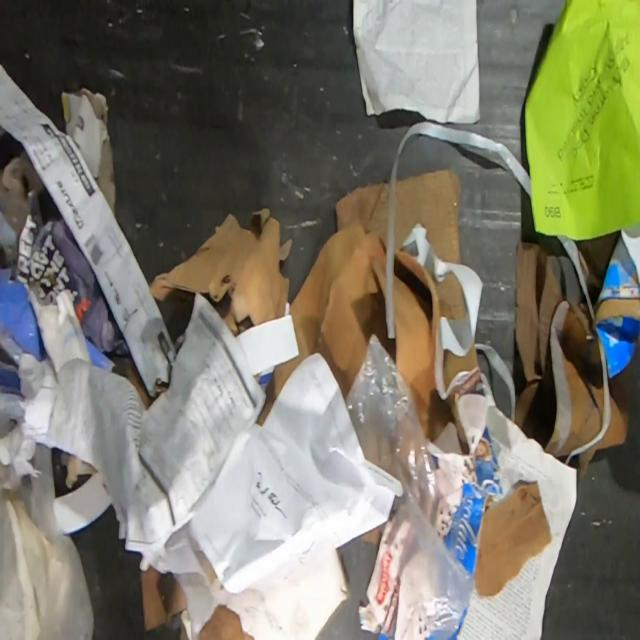cardboard: (255, 220, 455, 443), (336, 166, 478, 391), (148, 206, 292, 335), (473, 480, 551, 599), (450, 426, 502, 573), (139, 565, 188, 631), (198, 604, 254, 640)
soft_plastic: (344, 335, 475, 640), (0, 267, 42, 361), (84, 337, 116, 372)
